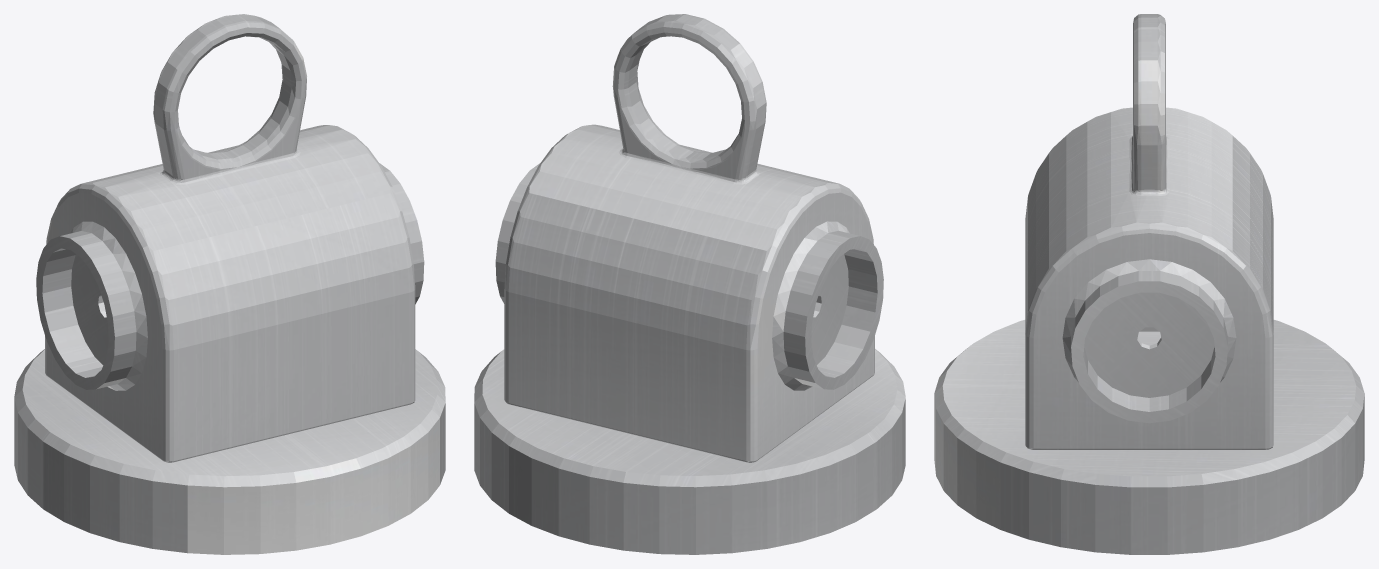
The model's file is z_link_tex.dae.
The picture shows the model from 3 angles, left to right: view 1: azimuth 30°, elevation 25°; view 2: azimuth 150°, elevation 25°; view 3: azimuth 270°, elevation 25°; orthographic projection.
Visible parts, largest first — view 1: Z_Joint_1_; view 2: Z_Joint_1_; view 3: Z_Joint_1_.
Boxes of the visible parts, x1=… form: Z_Joint_1_: x1=14, y1=14, x2=445, y2=554; Z_Joint_1_: x1=474, y1=14, x2=905, y2=554; Z_Joint_1_: x1=934, y1=14, x2=1364, y2=554.
Size of the model in its own units: 0.0519 by 0.052 by 0.0589.
1 material, 1 textured.
